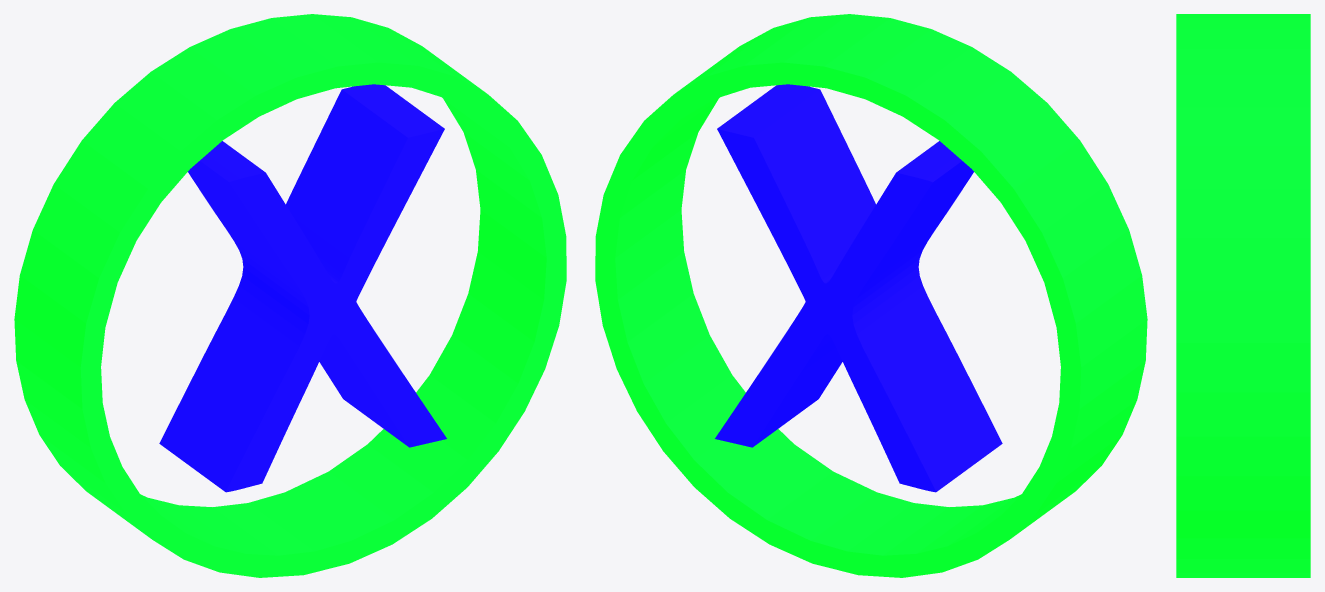
3 views of the same model, side by side, from view 1: azimuth 30°, elevation 25°; view 2: azimuth 150°, elevation 25°; view 3: azimuth 270°, elevation 25° (orthographic).
Parts seen in each view (by area): view 1: Curve.038, Curve.041; view 2: Curve.038, Curve.041; view 3: Curve.038.
Boxes of the visible parts, box(x1,y1,x2,y2) form: Curve.038: box(14, 14, 566, 577); Curve.041: box(159, 84, 446, 492); Curve.038: box(595, 14, 1147, 577); Curve.041: box(715, 84, 1002, 492); Curve.038: box(1176, 14, 1310, 577).
Size of the model in its own units: 4.89 by 4.82 by 1.16.
